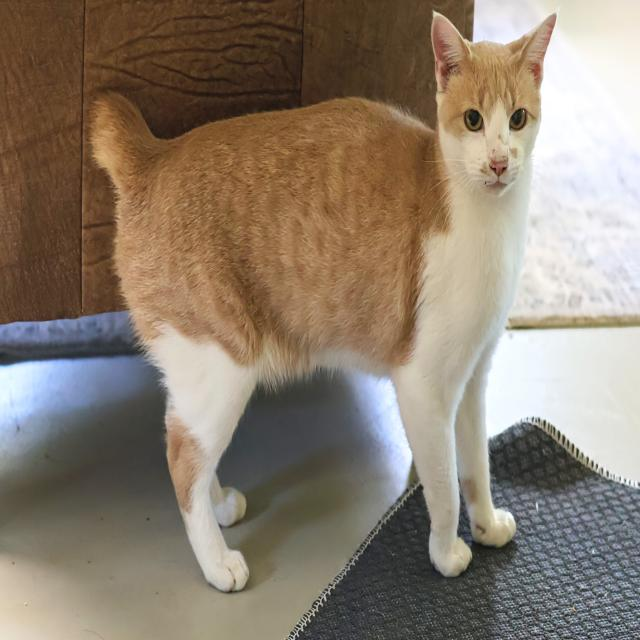American Bobtail: (83, 2, 561, 600)
